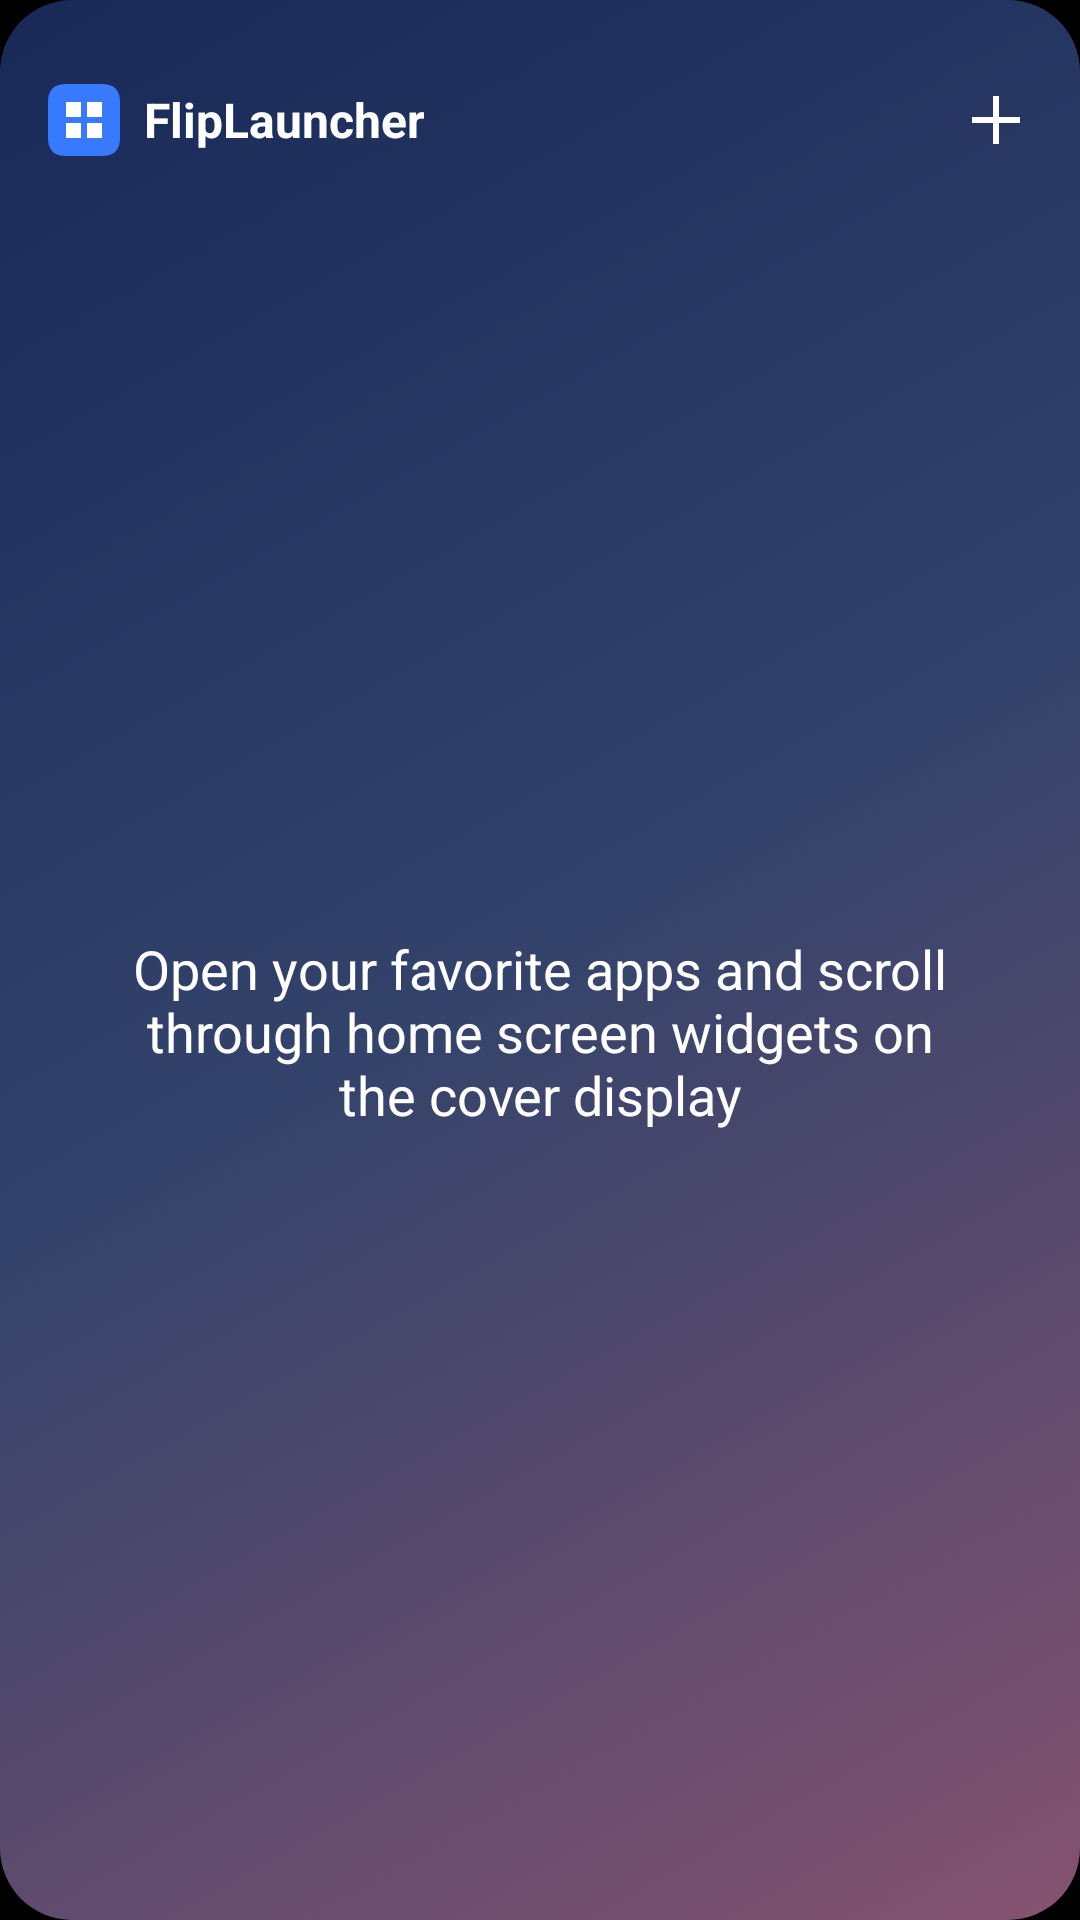

Screen size 1080 x 1920. Icon name, then its box in pixels as [left=x1, top=y1, right=x2, bottom=y2]:
widget add: [left=972, top=96, right=1020, bottom=144]
widget mark: [left=48, top=84, right=120, bottom=156]
